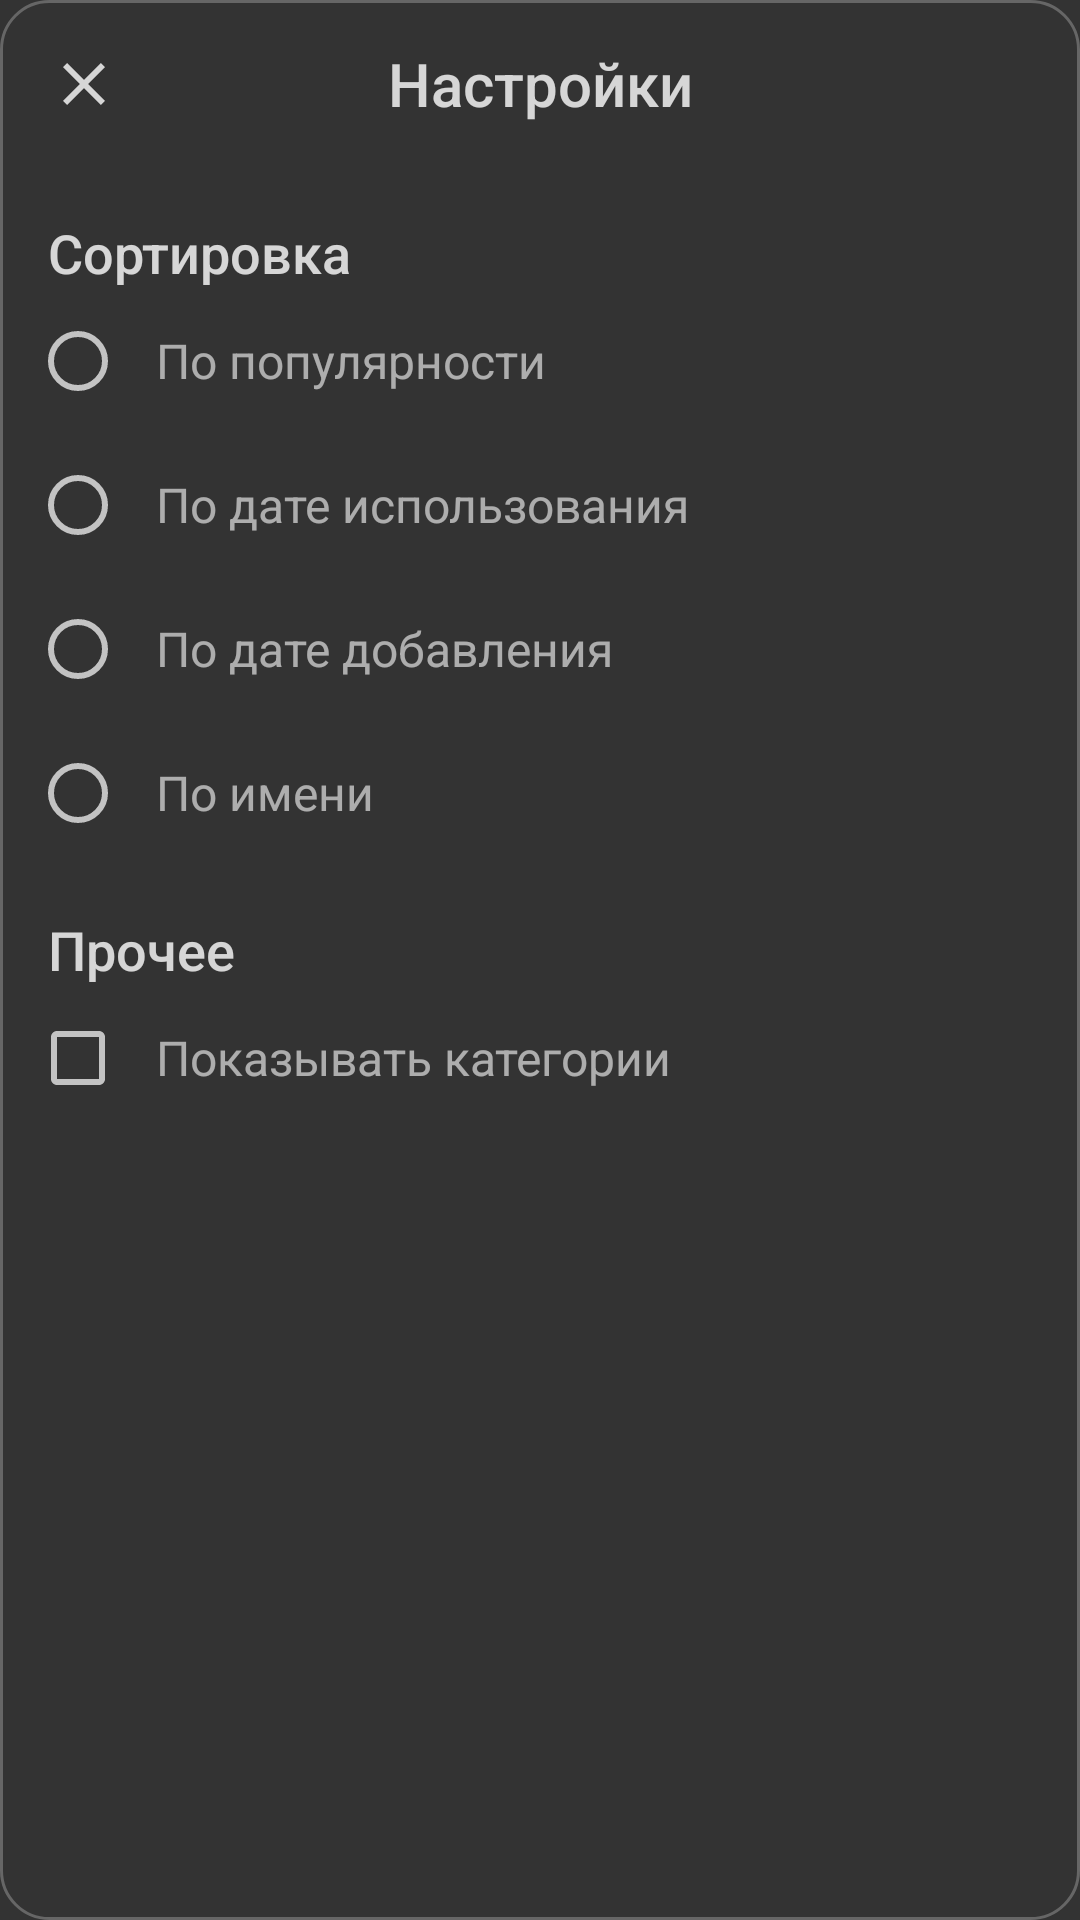

Icon click points for this 1080*1920 phone screenshot, format (x=x, y=y):
close: (x=84, y=84)
